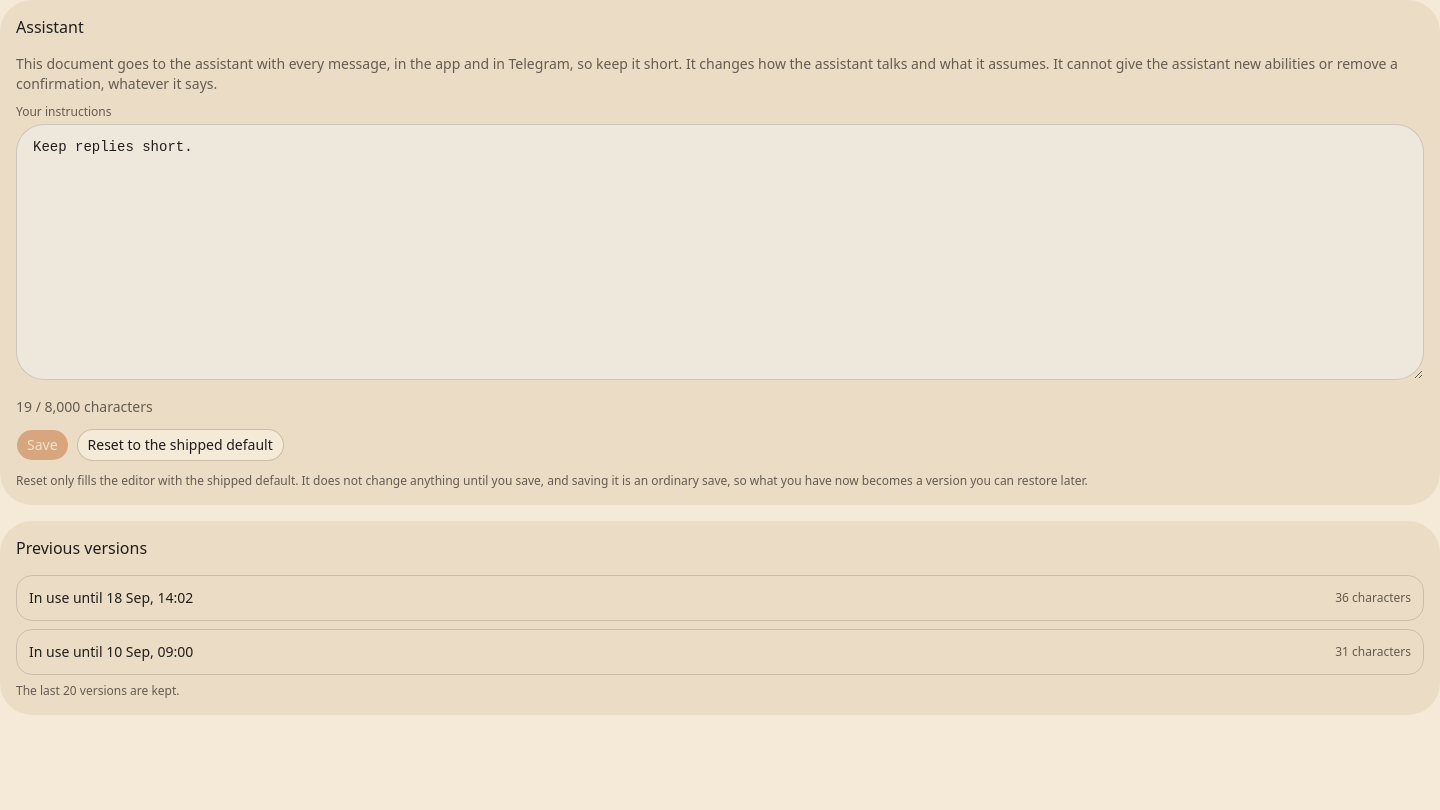
AssistantTab › counts the characters against the limit
The width and height of the screenshot is (1440, 810).
Expected: the text "19 / 8,000 characters" is shown, [16,397,153,417]
Replace the text in the text box showing "Keep replies short." with "Keep replies short and clear." at coordinates (720, 252), box [16,124,1424,380]
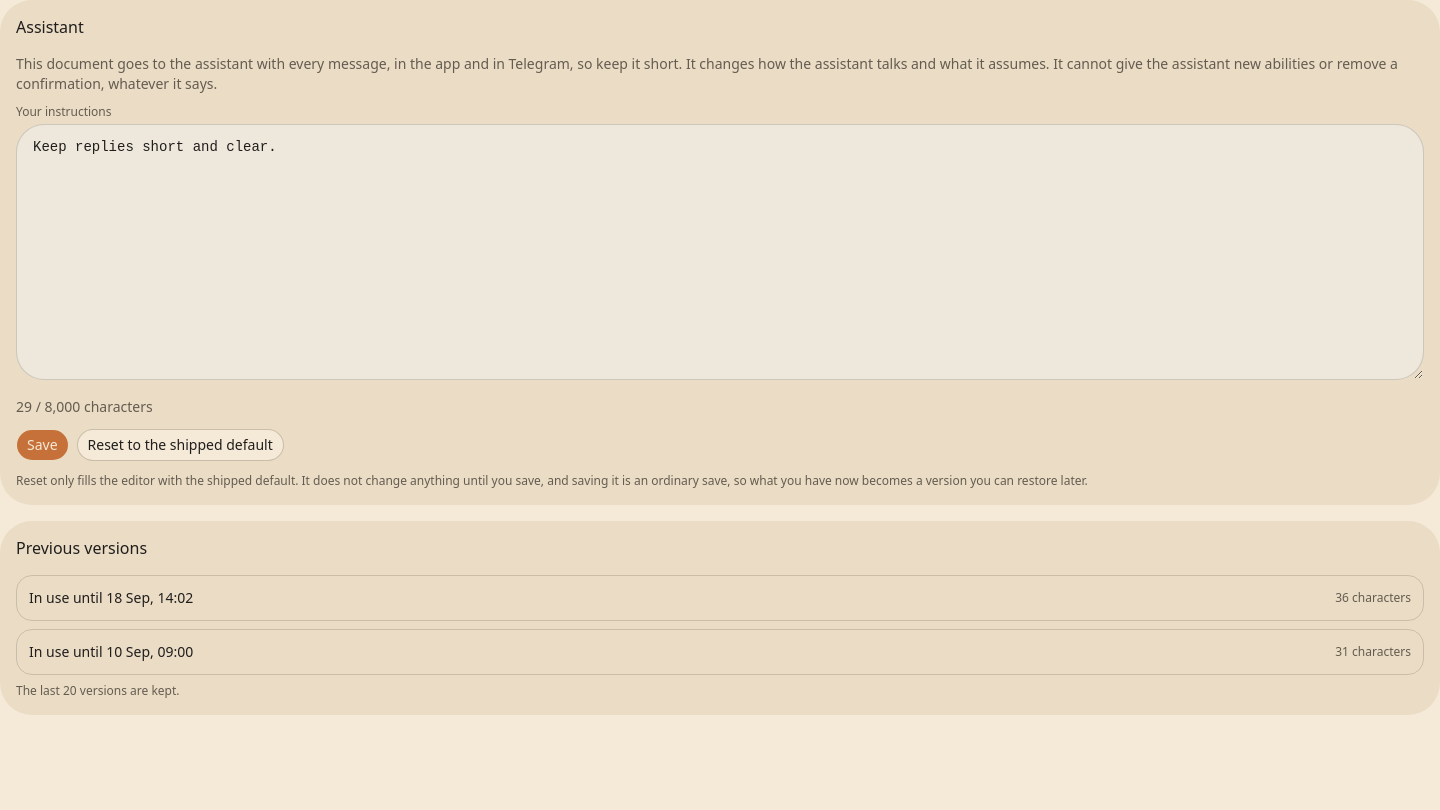
Expected: the text "29 / 8,000 characters" is shown, [16,397,153,417]
